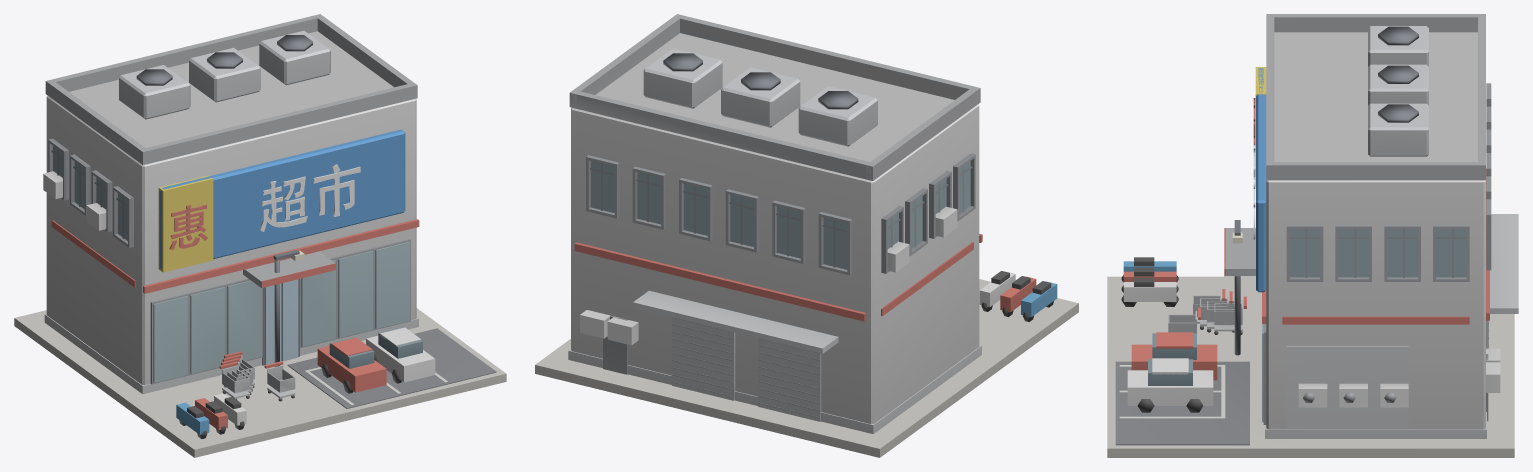
The model's file is supermarket.glb.
3 renders of one model, left to right at view 1: azimuth 30°, elevation 25°; view 2: azimuth 150°, elevation 25°; view 3: azimuth 270°, elevation 25°, orthographic. The views are drawn at different scales.
Parts seen in each view (by area): view 1: supermarket; view 2: supermarket; view 3: supermarket.
Part boxes in pixels (box(x1,y1,x2,y2)): supermarket: box(14, 14, 506, 457); supermarket: box(535, 14, 1078, 457); supermarket: box(1107, 14, 1518, 457).
Size of the model in its own units: 2 by 1.63 by 2.02.
